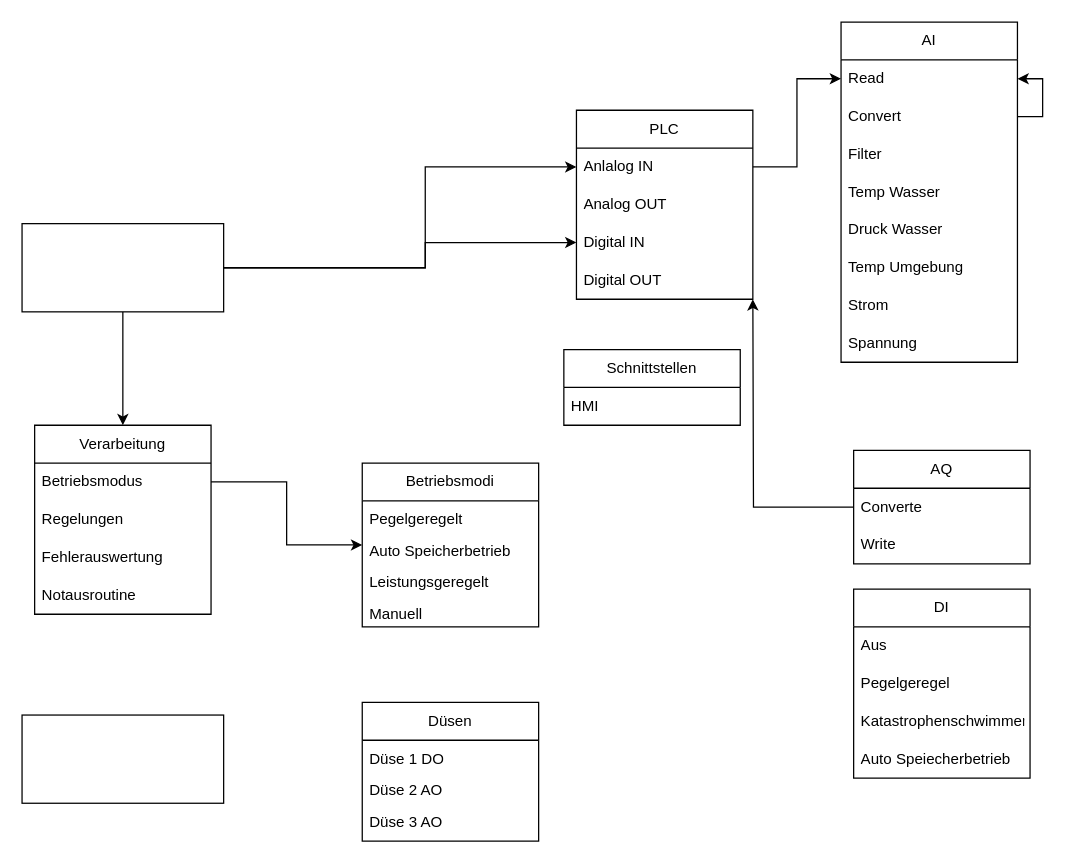
This 1075x863 diagram has some shape labels left out. The centre of each missing label's shape, as x and y in pixels:
Ausgabe: (122,758)
Eingabe: (122,267)
